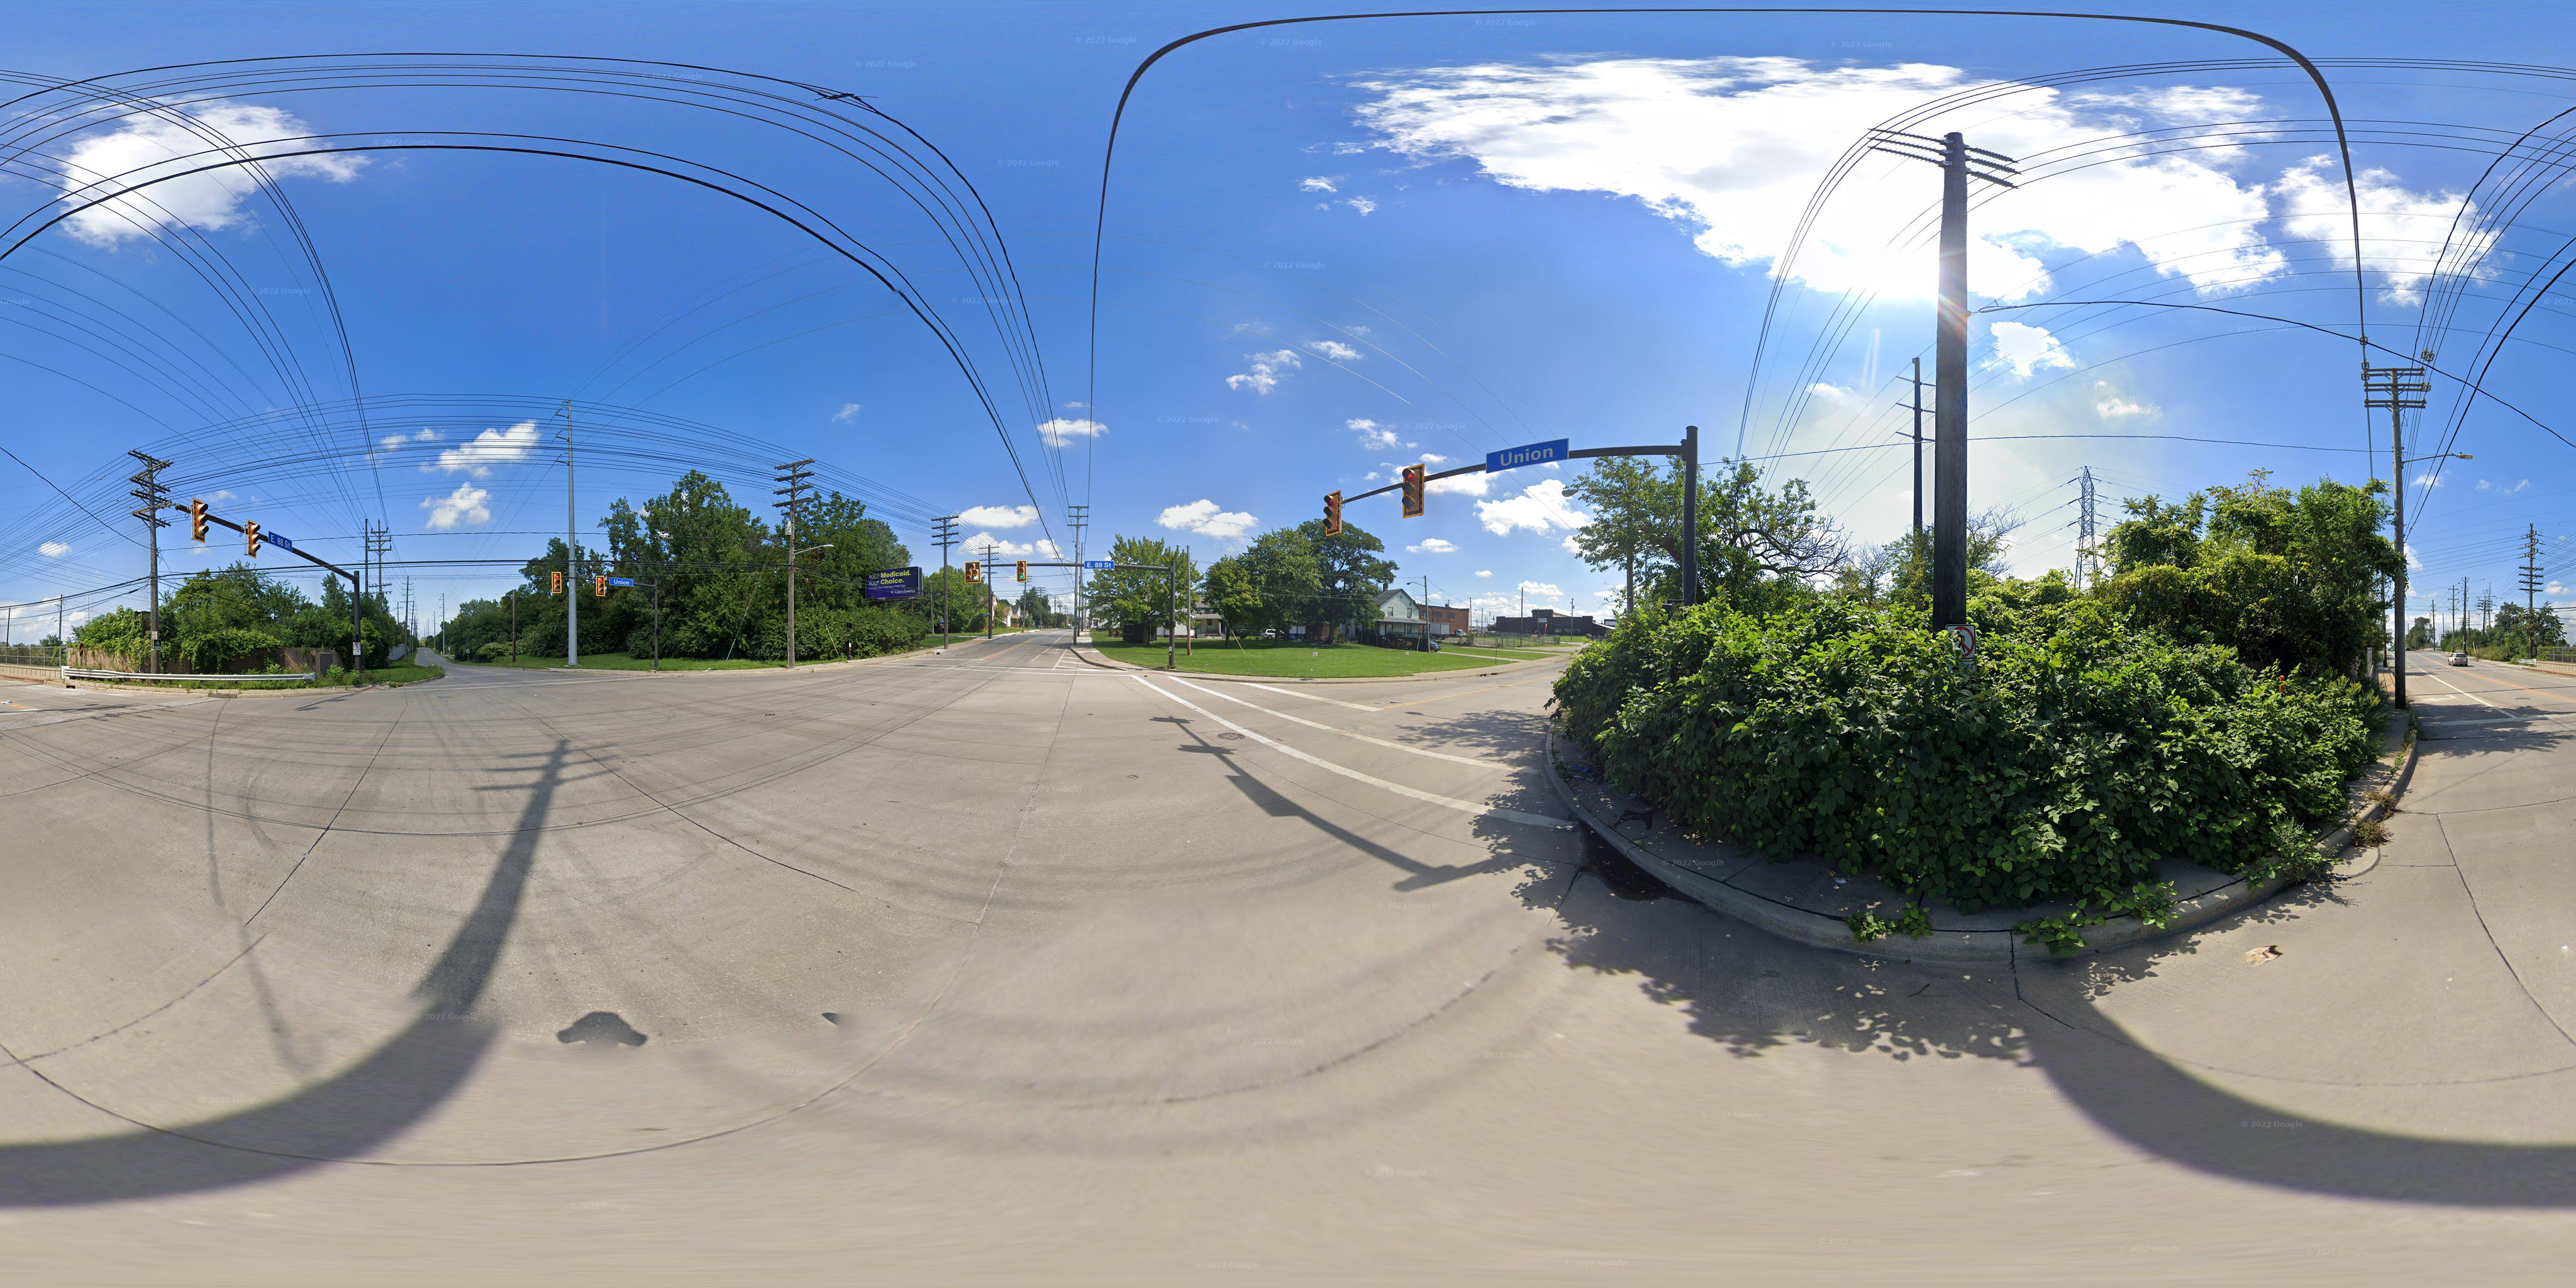Curb Ramp: (1125, 662, 1173, 680), (624, 669, 667, 683), (851, 655, 889, 669), (348, 683, 389, 695)
Irregular Ramp: (1497, 708, 1641, 872)
